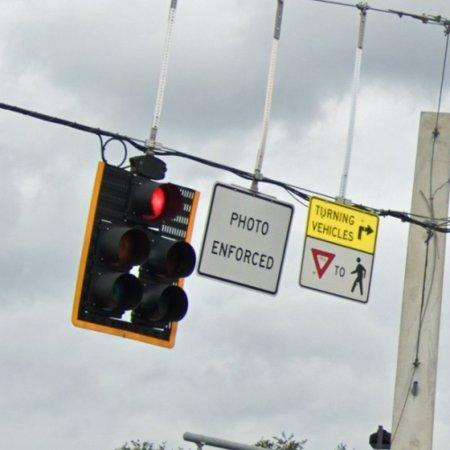traffic lights: (72, 156, 200, 348)
